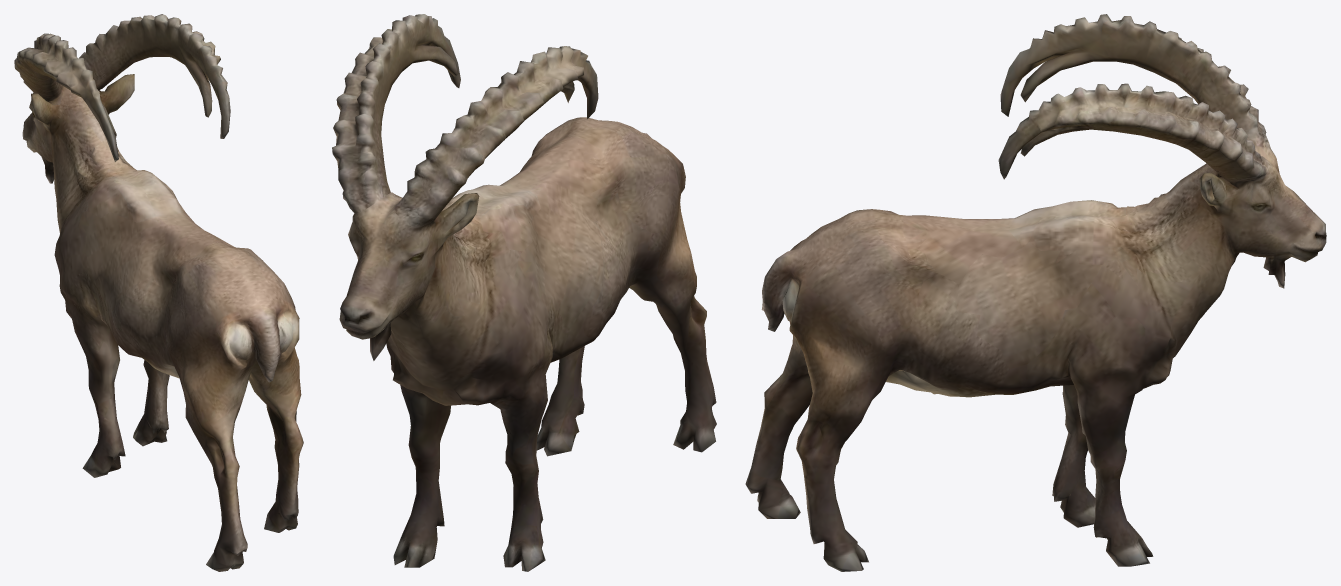
File: steinbock.glb
The picture shows the model from 3 angles, left to right: view 1: azimuth 30°, elevation 25°; view 2: azimuth 150°, elevation 25°; view 3: azimuth 270°, elevation 25°; orthographic projection. The views are drawn at different scales.
Parts seen in each view (by area): view 1: tripo_node_763d67b7-04ee-46cf-81cf-8bbc3e9bd374; view 2: tripo_node_763d67b7-04ee-46cf-81cf-8bbc3e9bd374; view 3: tripo_node_763d67b7-04ee-46cf-81cf-8bbc3e9bd374.
Part boxes in pixels (box(x1,y1,x2,y2)): tripo_node_763d67b7-04ee-46cf-81cf-8bbc3e9bd374: box(14, 14, 303, 571); tripo_node_763d67b7-04ee-46cf-81cf-8bbc3e9bd374: box(332, 14, 716, 571); tripo_node_763d67b7-04ee-46cf-81cf-8bbc3e9bd374: box(745, 14, 1326, 571).
Bounding box in the file's own units: 0.3667 × 0.9357 × 1.
Materials: 1 (1 with a texture image).
